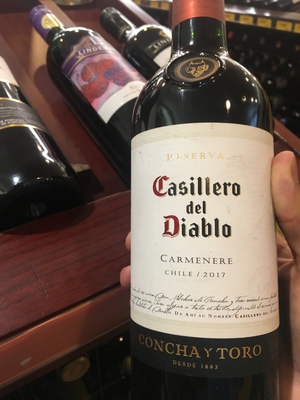casillero del diablo carmenere: (115, 1, 284, 398)
